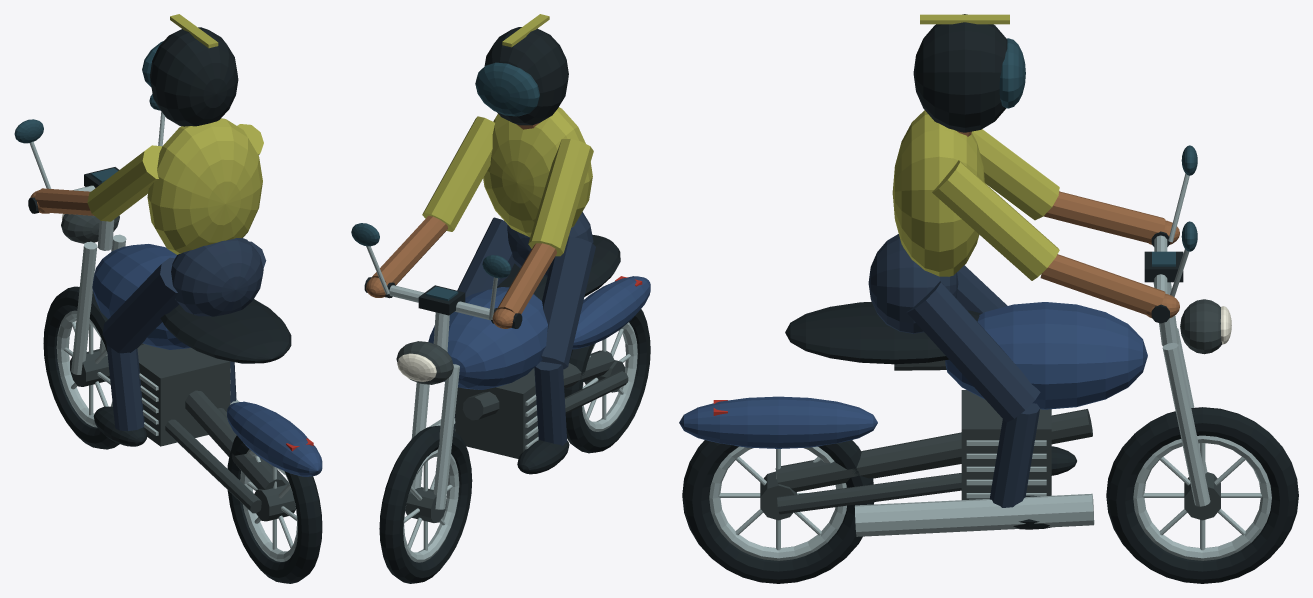
File: bike.glb
3 views of the same model, side by side, from view 1: azimuth 30°, elevation 25°; view 2: azimuth 150°, elevation 25°; view 3: azimuth 270°, elevation 25° (orthographic). The views are drawn at different scales.
Parts seen in each view (by area): view 1: bike part 138, bike part 140, Engine, bike part 137, bike part 133, bike part 83, bike part 134, bike part 124, bike part 143, bike part 95, bike part 146, bike part 122 (+13 smaller); view 2: bike part 138, bike part 124, bike part 95, bike part 143, Engine, bike part 146, bike part 140, bike part 152, bike part 83, bike part 134, bike part 141, bike part 144 (+21 smaller); view 3: bike part 124, bike part 95, bike part 138, bike part 140, bike part 83, bike part 134, bike part 131, bike part 149, bike part 133, bike part 122, bike part 152, bike part 137 (+15 smaller).
Part boxes in pixels (left/top/right/bottom): bike part 138: left=147, top=118, right=262, bottom=254; bike part 140: left=150, top=27, right=238, bottom=126; Engine: left=137, top=344, right=230, bottom=446; bike part 137: left=171, top=238, right=263, bottom=316; bike part 133: left=160, top=299, right=291, bottom=363; bike part 83: left=227, top=435, right=322, bottom=583; bike part 134: left=227, top=401, right=322, bottom=476; bike part 124: left=92, top=244, right=190, bottom=349; bike part 143: left=102, top=257, right=179, bottom=353; bike part 95: left=43, top=286, right=119, bottom=449; bike part 146: left=87, top=145, right=162, bottom=221; bike part 122: left=141, top=343, right=285, bottom=489; bike part 138: left=483, top=107, right=592, bottom=237; bike part 124: left=428, top=287, right=547, bottom=389; bike part 95: left=379, top=425, right=472, bottom=583; bike part 143: left=541, top=236, right=595, bottom=369; Engine: left=455, top=368, right=538, bottom=458; bike part 146: left=528, top=139, right=593, bottom=256; bike part 140: left=484, top=27, right=568, bottom=125; bike part 152: left=422, top=116, right=494, bottom=231; bike part 83: left=564, top=309, right=650, bottom=453; bike part 134: left=572, top=276, right=650, bottom=349; bike part 141: left=475, top=62, right=539, bottom=116; bike part 144: left=534, top=361, right=567, bottom=445; bike part 124: left=945, top=302, right=1147, bottom=409; bike part 95: left=1106, top=407, right=1298, bottom=583; bike part 138: left=892, top=110, right=984, bottom=276; bike part 140: left=913, top=14, right=1007, bottom=132; bike part 83: left=682, top=440, right=874, bottom=583; bike part 134: left=679, top=396, right=877, bottom=448; bike part 131: left=855, top=493, right=1094, bottom=536; bike part 149: left=906, top=281, right=1040, bottom=422; bike part 133: left=785, top=301, right=981, bottom=364; bike part 122: left=775, top=409, right=1092, bottom=491; bike part 152: left=932, top=160, right=1059, bottom=280; bike part 137: left=868, top=234, right=958, bottom=333.
Bounding box in the file's own units: 0.68 × 1.94 × 1.93.
